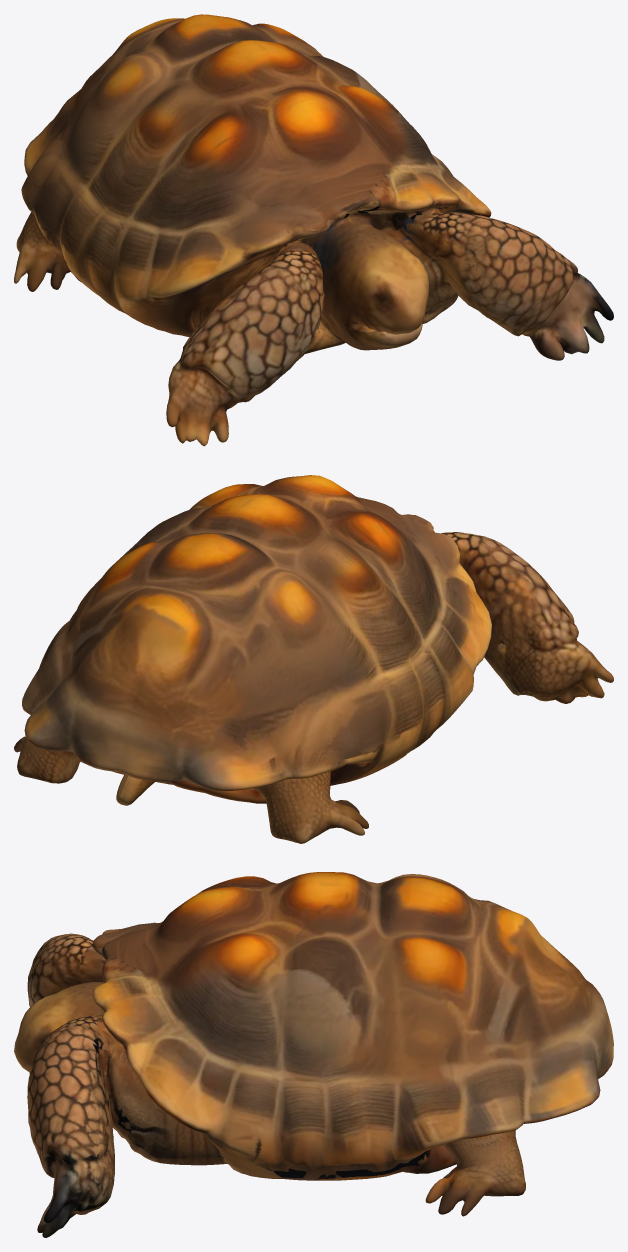
The model's file is tortoise.glb.
3 views of the same model, one above another, from view 1: azimuth 30°, elevation 25°; view 2: azimuth 150°, elevation 25°; view 3: azimuth 270°, elevation 25° (orthographic). The views are drawn at different scales.
Parts seen in each view (by area): view 1: geometry_0; view 2: geometry_0; view 3: geometry_0.
Boxes of the visible parts, x1,y1,x2,y2 form: geometry_0: (14, 14, 613, 446); geometry_0: (14, 475, 613, 843); geometry_0: (14, 872, 613, 1237).
Size of the model in its own units: 0.8826 by 0.4812 by 1.
1 material, 1 textured.
